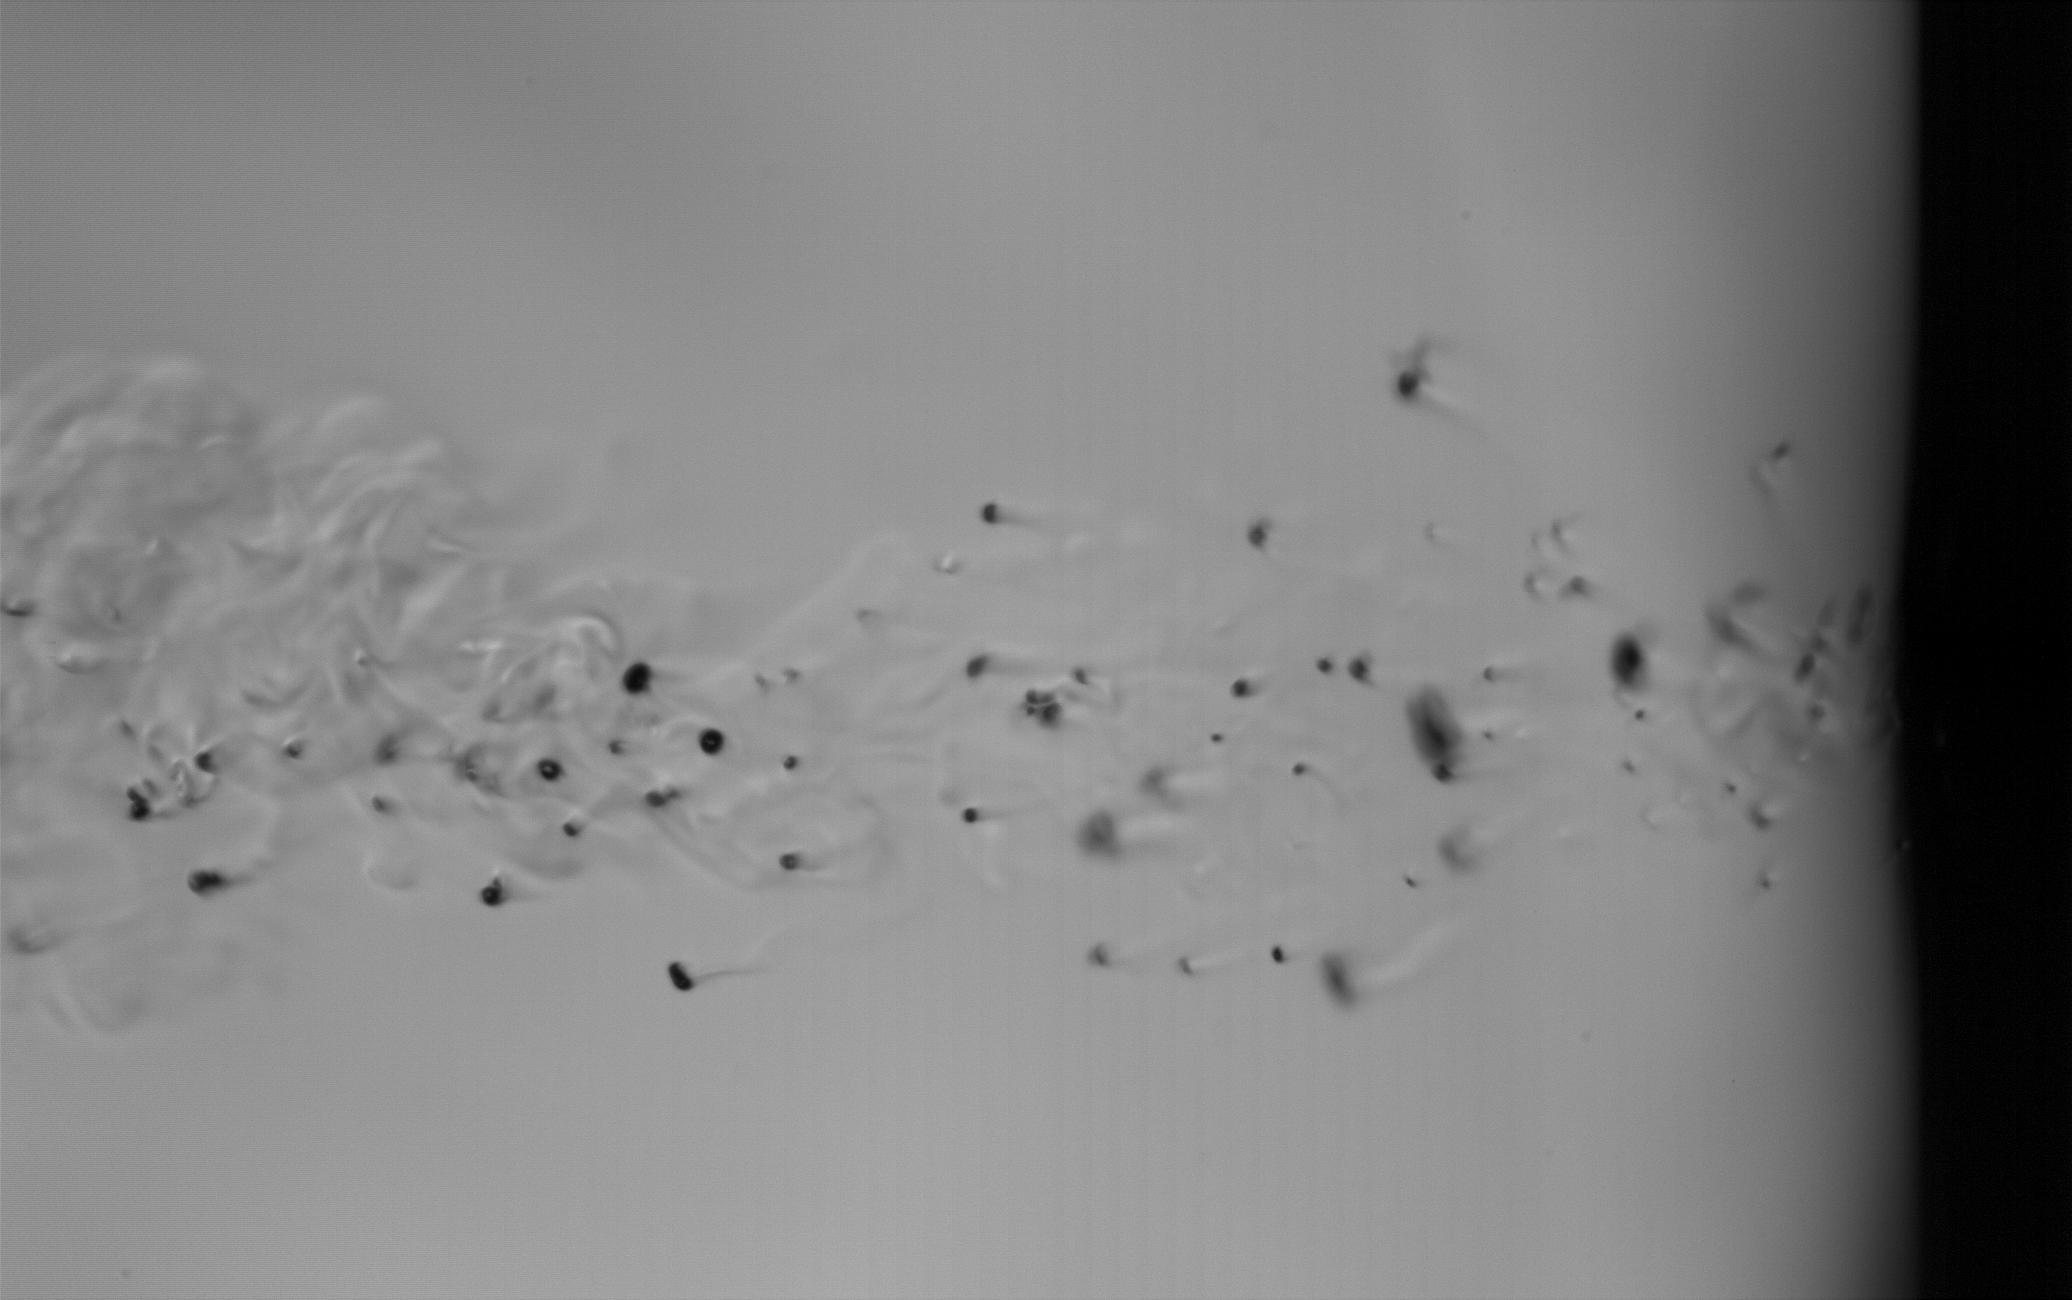Blurry: (1406, 678, 1469, 768), (1314, 939, 1355, 1006), (1076, 807, 1129, 858), (1395, 353, 1433, 401), (1023, 687, 1064, 729), (121, 785, 153, 825), (1247, 508, 1276, 551), (184, 867, 228, 896), (1344, 649, 1374, 687), (1788, 651, 1817, 689), (1747, 798, 1776, 837), (478, 875, 508, 908), (371, 735, 398, 765), (642, 786, 680, 807), (192, 749, 217, 776), (1085, 944, 1109, 966), (283, 740, 302, 759), (1070, 665, 1088, 686), (1482, 726, 1496, 740)
ClassicalEvaporation: (695, 725, 728, 758), (952, 800, 984, 833), (533, 755, 564, 788), (1430, 759, 1457, 783), (1229, 677, 1255, 698), (778, 851, 802, 872), (1207, 729, 1226, 750), (1316, 654, 1332, 674), (1291, 762, 1305, 780), (1633, 707, 1645, 720)
TransitionalMixing: (1606, 628, 1648, 687), (621, 657, 653, 696), (668, 960, 698, 993), (979, 491, 1000, 530), (964, 651, 993, 678), (1270, 942, 1288, 966), (560, 819, 579, 840), (780, 755, 799, 773), (370, 795, 386, 815), (1401, 876, 1419, 893), (1484, 663, 1494, 684)
